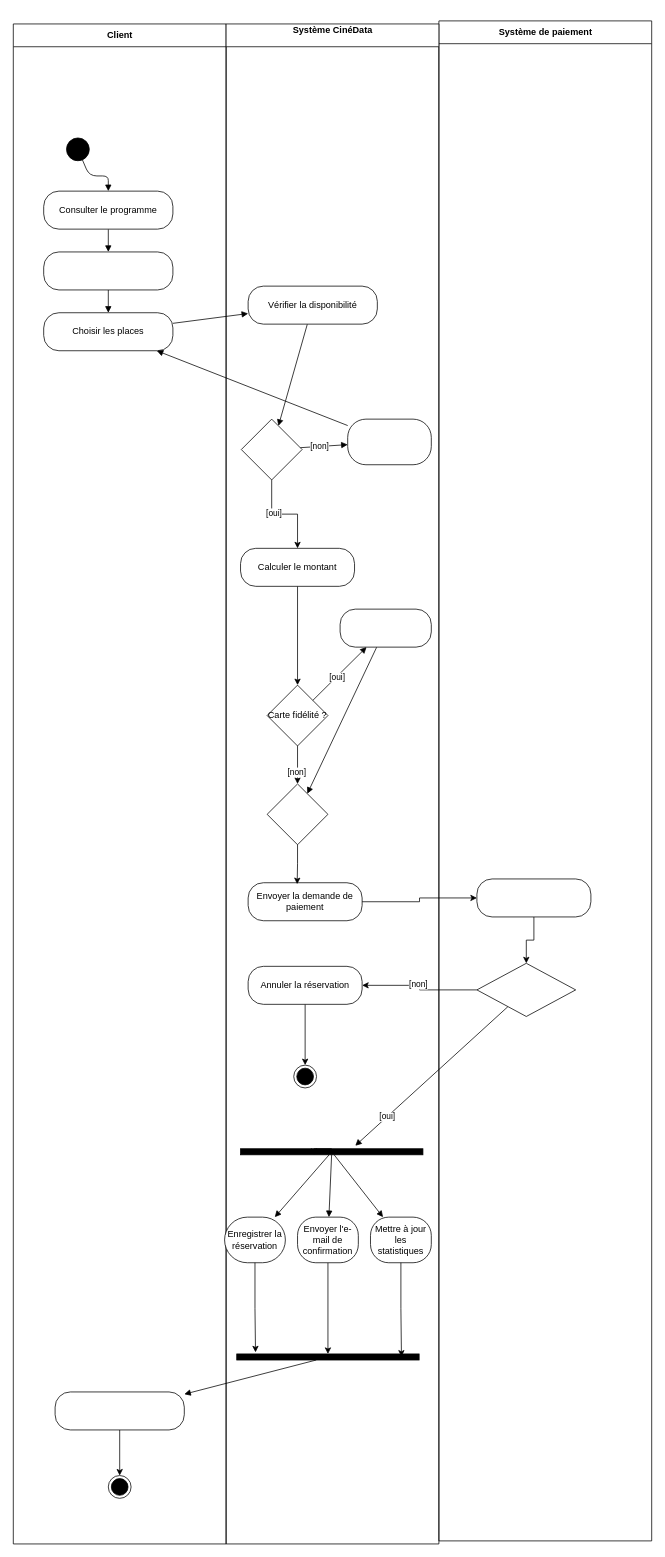
Image size: 665x1557. Some labels were removed from this diagram. Each missing label, with the centre of its shape:
Afficher « places indisponibles: point (389, 441)
Appliquer la réduction de 20 %: point (385, 627)
Paiement accepté ?: point (526, 989)
Places libres ?: point (271, 449)
Recevoir le ticket: point (119, 1410)
Sélectionner une séance: point (108, 270)
Valider le paiement: point (533, 897)
